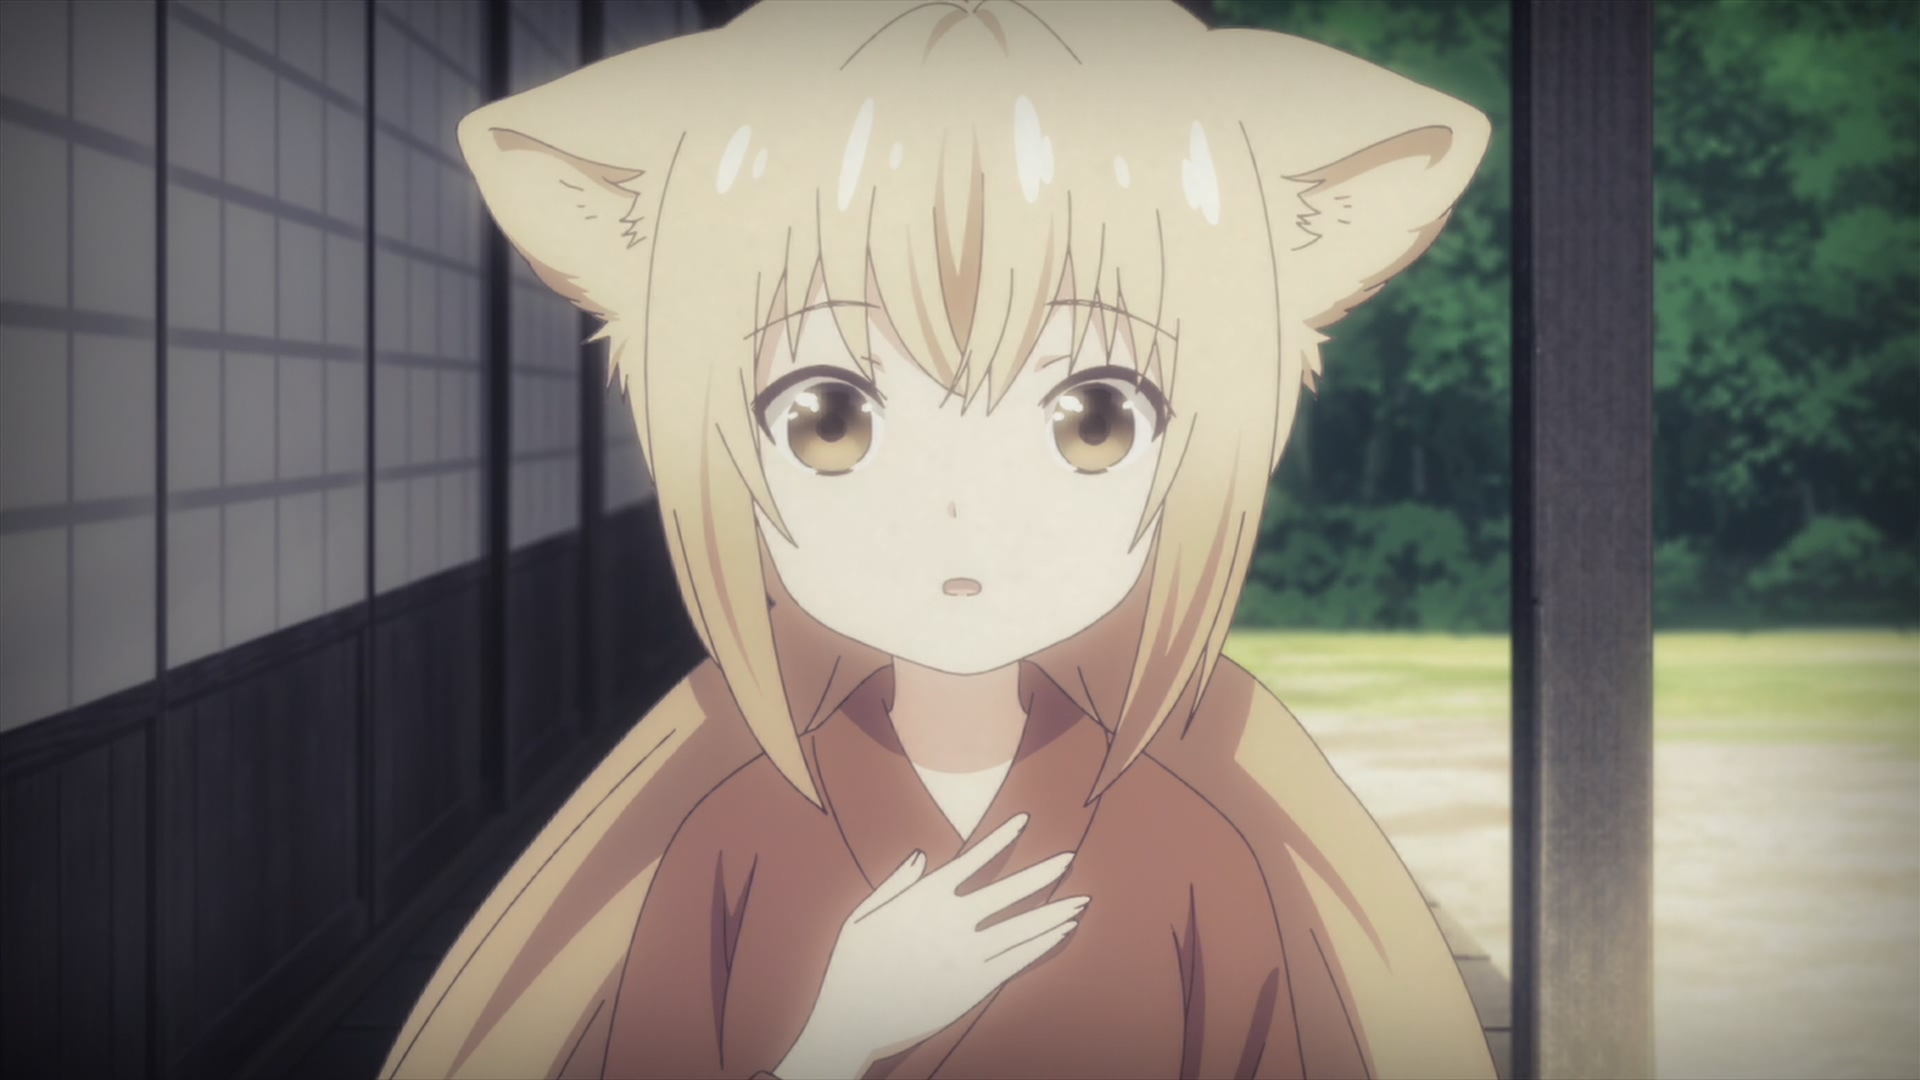柚: (378, 1, 1501, 1080)
